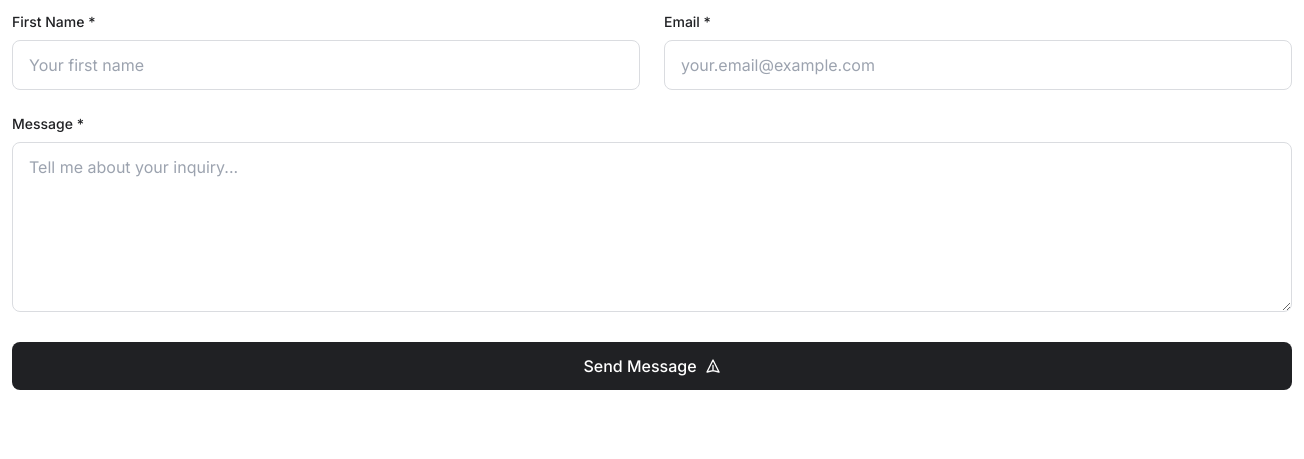
Test: ContactForm › Form Validation › validates message length
The width and height of the screenshot is (1304, 459).
Type "Short" into the text box labelled "Message *" at (652, 227), box [12,142,1292,312]
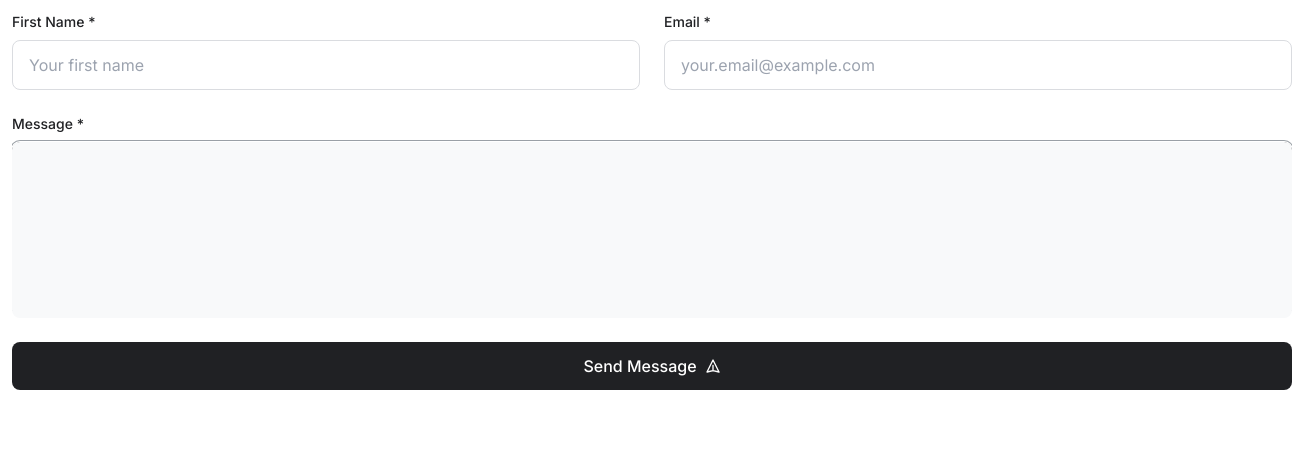
Click the button "Send Message" at (652, 366), box [12,342,1292,390]
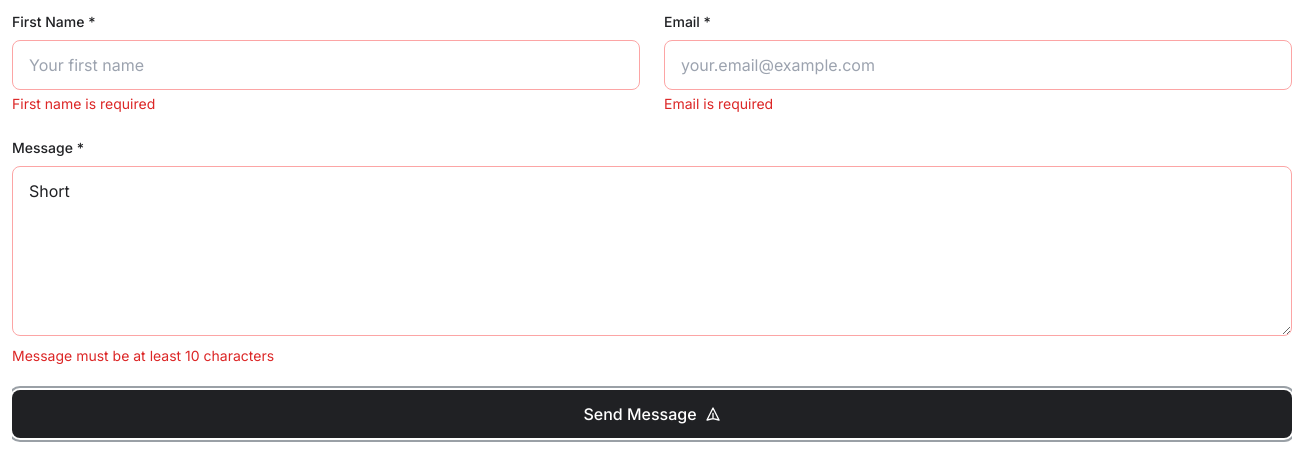
Check: the text "Message must be at least 10 characters" is shown, box [12,347,274,364]
